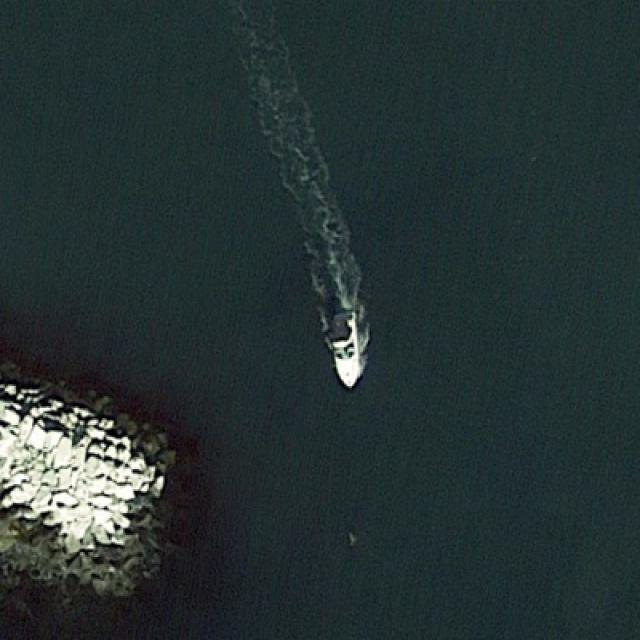boat: (326, 305, 365, 389)
